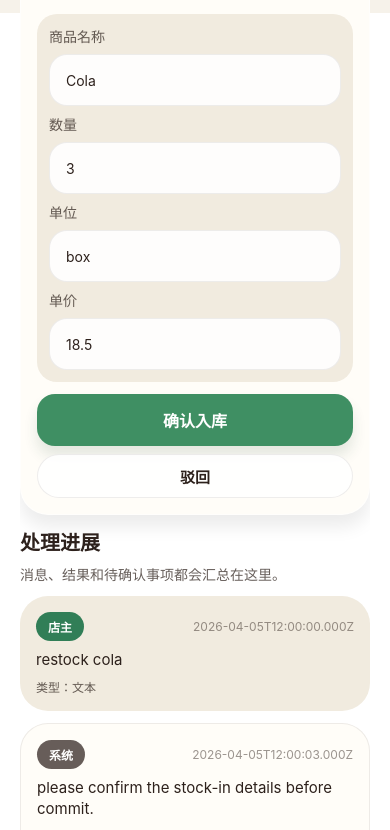
ChatScreen › renders a pending stock-in confirmation card and approves it from chat
(page scrolled)
Expected: the field showing "Cola" is shown, [49,54,341,106]
Expected: the field showing "3" is shown, [49,142,341,194]
Click the button with test id "confirm-approve-conf_1": [195, 420] box [37,394,353,446]
(page scrolled)
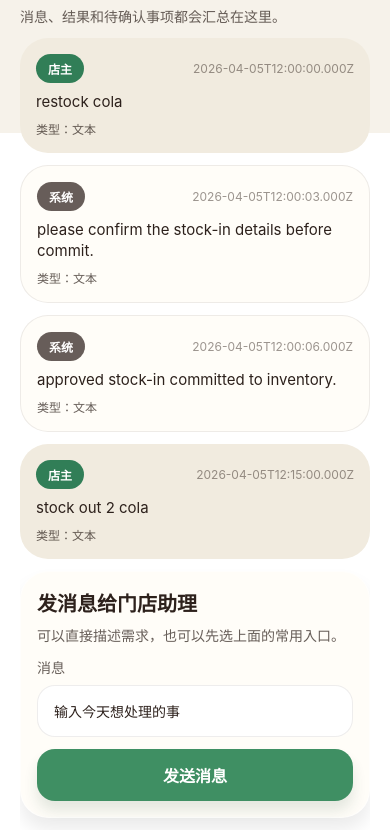
Expected: the text "approved stock-in committed to inventory." is shown, [37,369,353,390]
